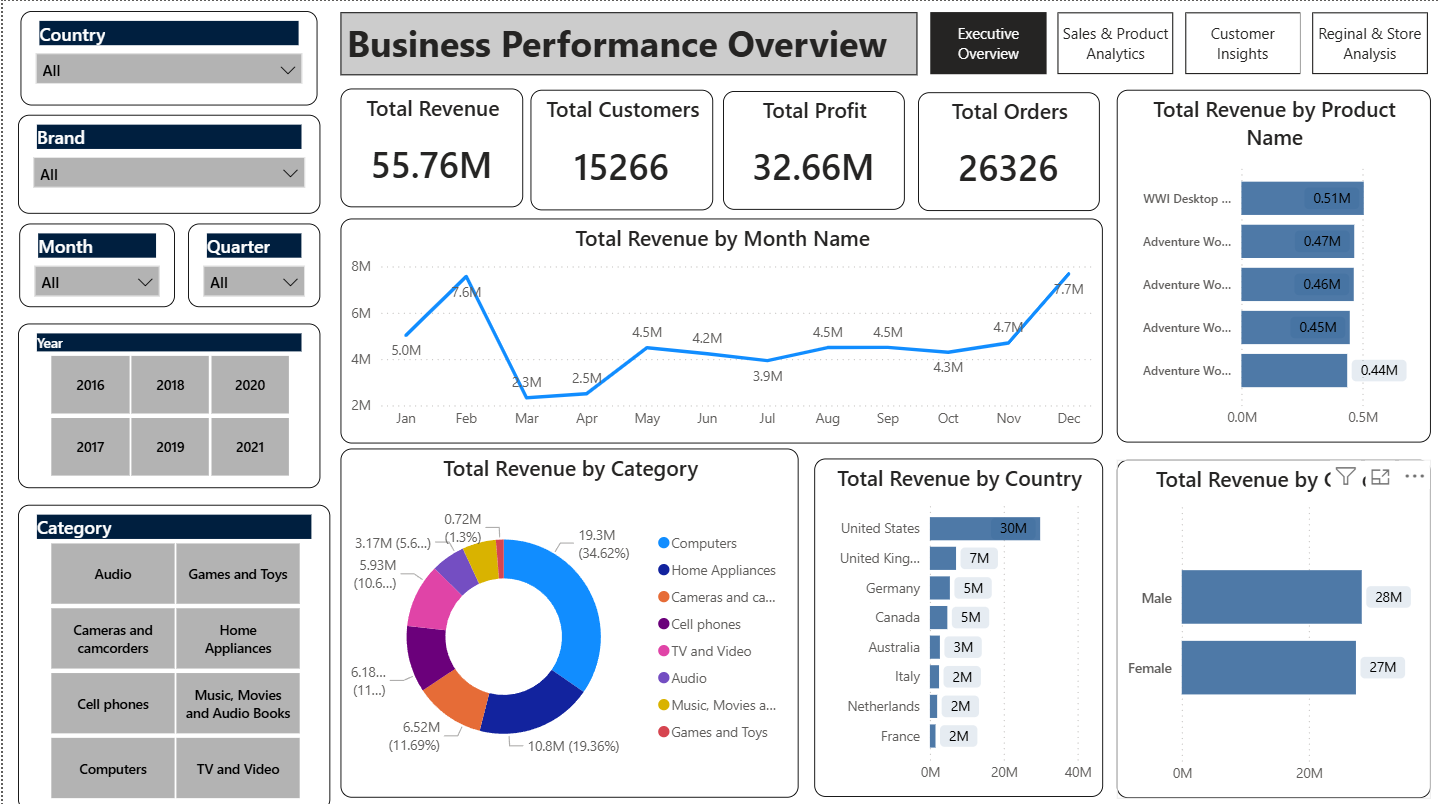

The dashboard page shown, as its layout file describes it:
{"tool":"powerbi","page":{"name":"Executive Overview","canvas":[1280,720],"ordinal":0},"visuals":[{"type":"slicer","fields":{"Values":["Customers.Country"]},"box":[15.1,9.3,264,83.7],"z":0},{"type":"cardVisual","title":"Total Revenue","fields":{"Data":["Customers.Total Revenue"]},"box":[300,77.9,162.8,105.8],"z":1000},{"type":"cardVisual","title":"Total Profit","fields":{"Data":["Customers.Total Profit"]},"box":[639.5,80.2,161.6,105.8],"z":2000},{"type":"cardVisual","title":"Total Orders","fields":{"Data":["Customers.Total Orders"]},"box":[812.8,81.4,161.6,105.8],"z":3000},{"type":"cardVisual","title":"Total Customers","fields":{"Data":["Customers.Total customers"]},"box":[468.6,79.1,162.8,107],"z":4000},{"type":"slicer","fields":{"Values":["Products.Category"]},"box":[12.8,447.7,277.9,272.1],"z":5000},{"type":"slicer","fields":{"Values":["Products.Brand"]},"box":[12.8,101.2,268.6,88.4],"z":6000},{"type":"slicer","fields":{"Values":["DateTable.Month Name"]},"box":[14,197.7,138.4,74.4],"z":7000},{"type":"slicer","fields":{"Values":["DateTable.Year"]},"box":[12.8,287.2,268.6,146.5],"z":8000},{"type":"slicer","fields":{"Values":["DateTable.Quarter"]},"box":[164,197.7,117.4,74.4],"z":9000},{"type":"lineChart","fields":{"Y":["Customers.Total Revenue"],"Category":["DateTable.Month Name"]},"box":[300.5,193.5,677.9,200.3],"z":10000},{"type":"donutChart","fields":{"Y":["Customers.Total Revenue"],"Category":["Products.Category"]},"box":[300.5,397.9,407.5,310.1],"z":11000},{"type":"textbox","box":[300,10.5,512.8,55.8],"z":12000},{"type":"barChart","fields":{"Category":["Customers.Country"],"Y":["Customers.Total Revenue"]},"box":[720.9,407,257,301.2],"z":13000},{"type":"barChart","fields":{"Y":["Customers.Total Revenue"],"Category":["Products.Product Name"]},"box":[989.5,79.1,279.1,314],"z":14000},{"type":"barChart","fields":{"Category":["Customers.Gender"],"Y":["Customers.Total Revenue"]},"box":[990,408,279,301],"z":15000},{"type":"pageNavigator","box":[824.4,10.5,444.2,55.8],"z":16000}]}

Visuals, with their boxes in screenshot pixels (x1, y1, x2, y2), scaled from the page's 1280x720 canvas onto the 1438x804 screenshot:
slicer - Customers.Country: bbox=[17, 10, 314, 104]
"Total Revenue" cardVisual: bbox=[337, 87, 520, 205]
"Total Profit" cardVisual: bbox=[718, 90, 900, 208]
"Total Orders" cardVisual: bbox=[913, 91, 1095, 209]
"Total Customers" cardVisual: bbox=[526, 88, 709, 208]
slicer - Products.Category: bbox=[14, 500, 327, 803]
slicer - Products.Brand: bbox=[14, 113, 316, 212]
slicer - DateTable.Month Name: bbox=[16, 221, 171, 304]
slicer - DateTable.Year: bbox=[14, 321, 316, 484]
slicer - DateTable.Quarter: bbox=[184, 221, 316, 304]
lineChart - Customers.Total Revenue x DateTable.Month Name: bbox=[338, 216, 1099, 440]
donutChart - Customers.Total Revenue x Products.Category: bbox=[338, 444, 795, 791]
textbox: bbox=[337, 12, 913, 74]
barChart - Customers.Country x Customers.Total Revenue: bbox=[810, 454, 1099, 791]
barChart - Customers.Total Revenue x Products.Product Name: bbox=[1112, 88, 1425, 439]
barChart - Customers.Gender x Customers.Total Revenue: bbox=[1112, 456, 1426, 792]
pageNavigator: bbox=[926, 12, 1425, 74]
